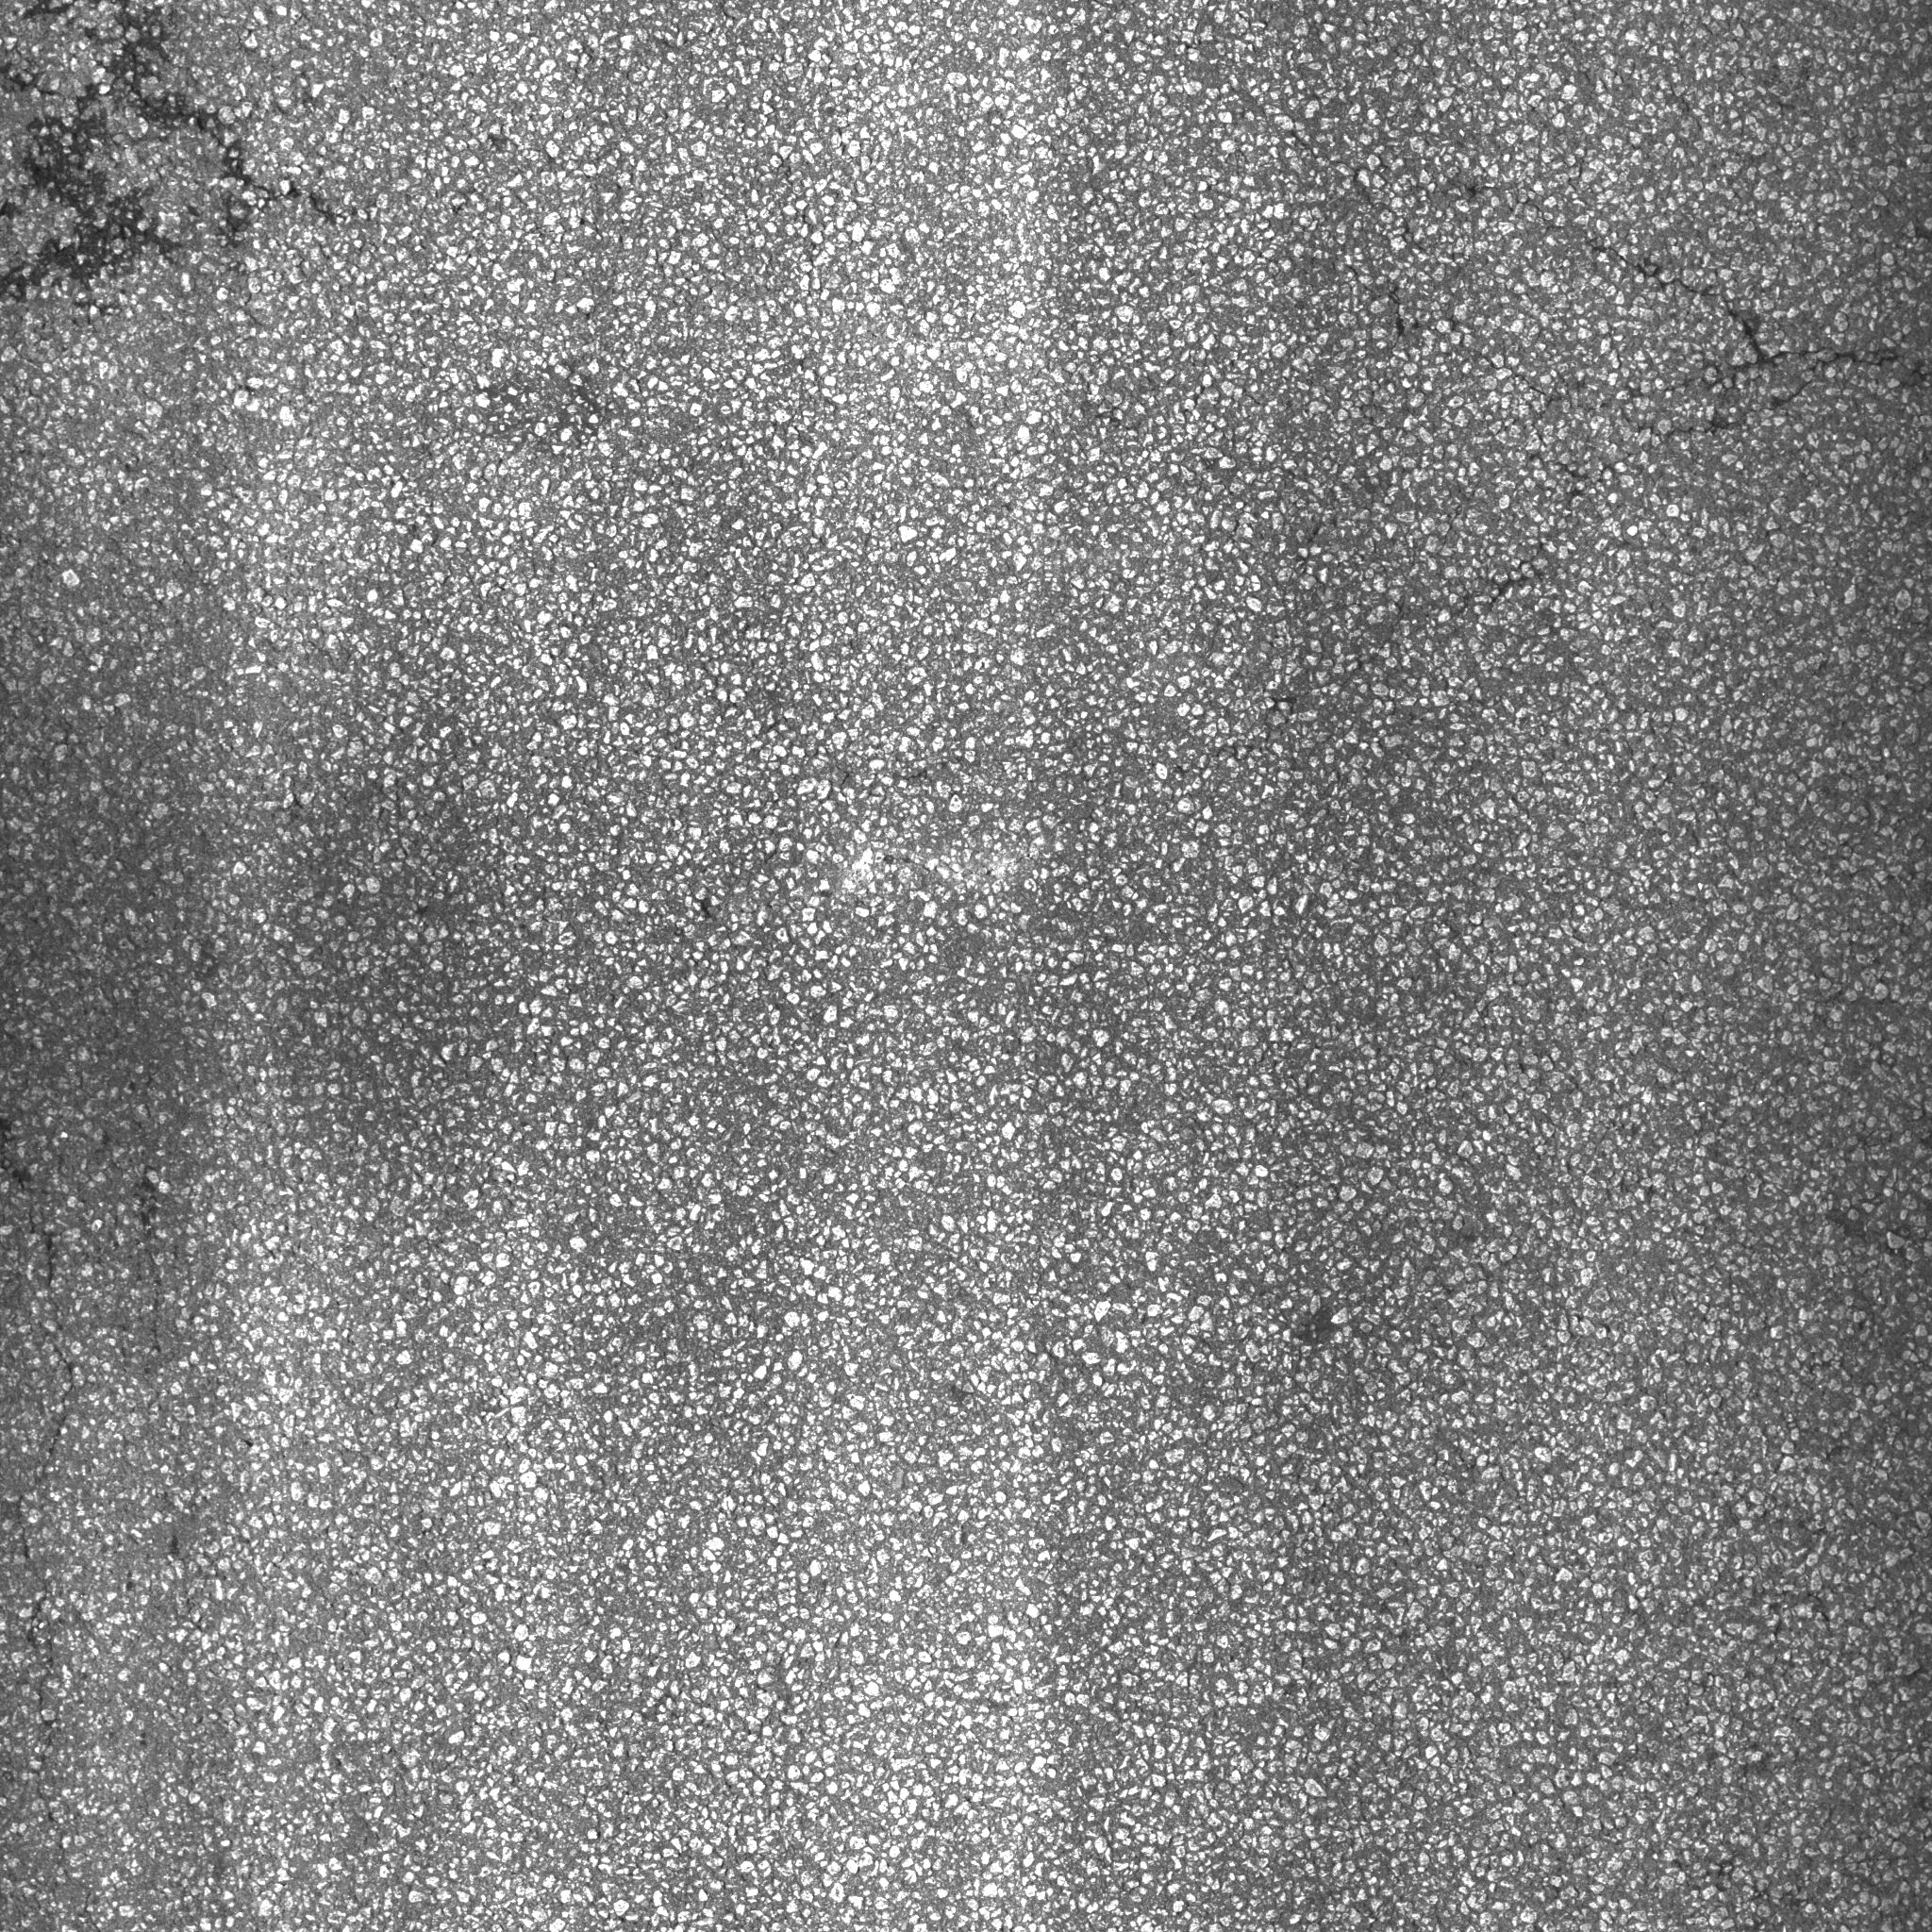transeverse: (12, 2, 364, 290), (1513, 203, 1932, 437), (2, 1100, 126, 1822)
